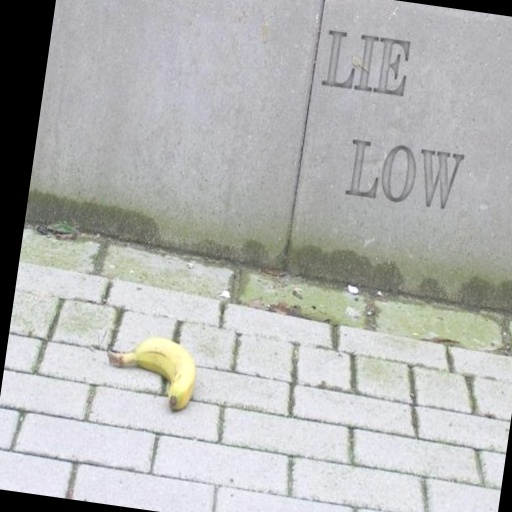fruit: (108, 337, 196, 410)
